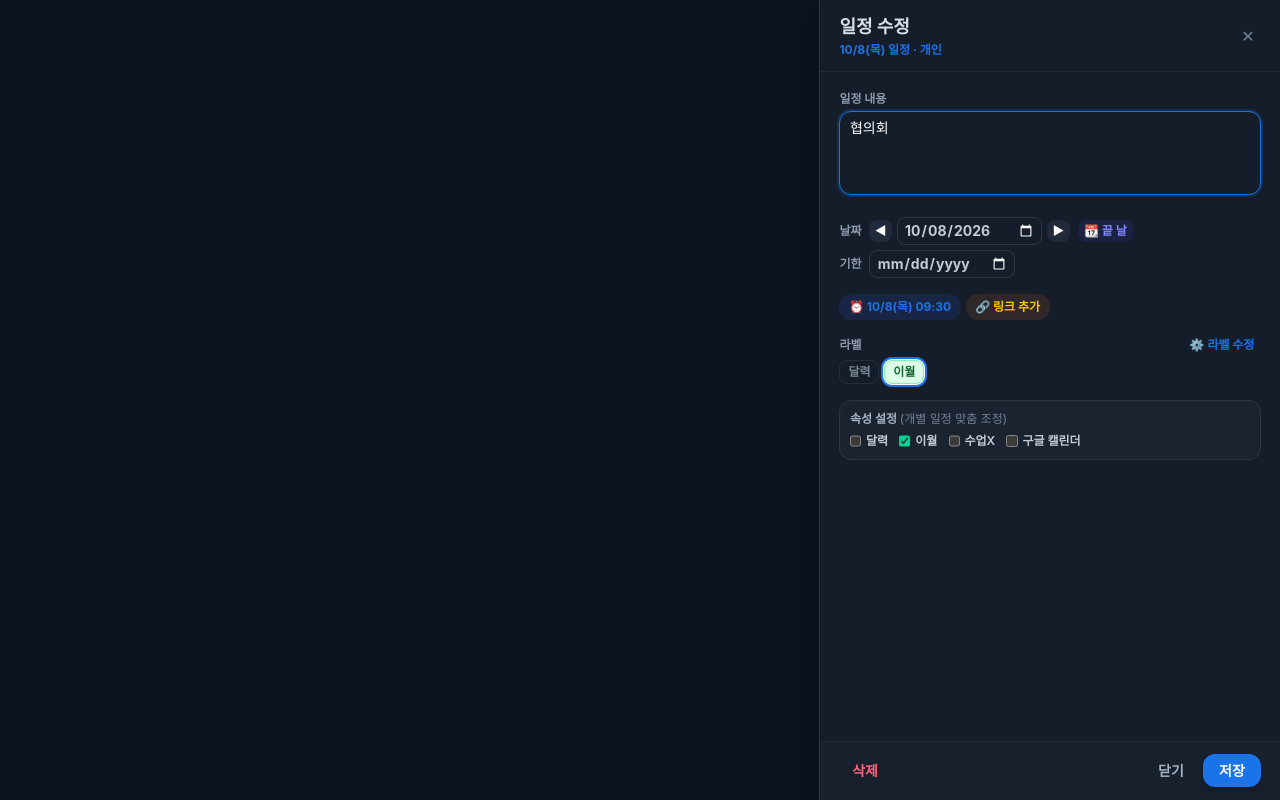
Scenario: 고치기 › 날짜를 바꾸면 안내 줄 → 옮기고 저장 = date만, 되돌리기는 날짜만
In the date field named "일정 날짜": point(970, 231) [897,217,1042,245], type "2026-10-12"
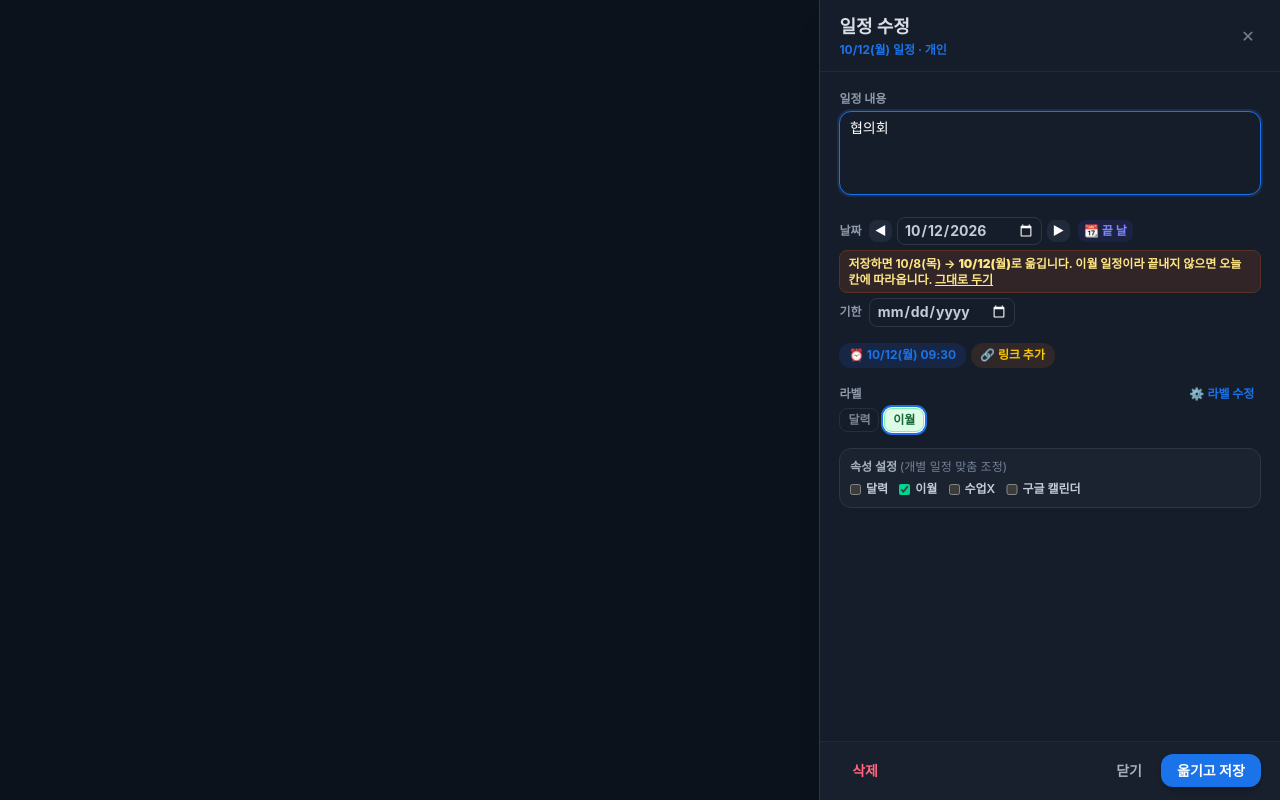
expect the element that starts with "저장하면" is shown: met, box [839,250,1261,293]
expect the button "옮기고 저장" is shown: met, box [1161,754,1261,787]
Replace the text in the text box with "협의회 (미룸)": point(1050, 153) [839,111,1261,195]
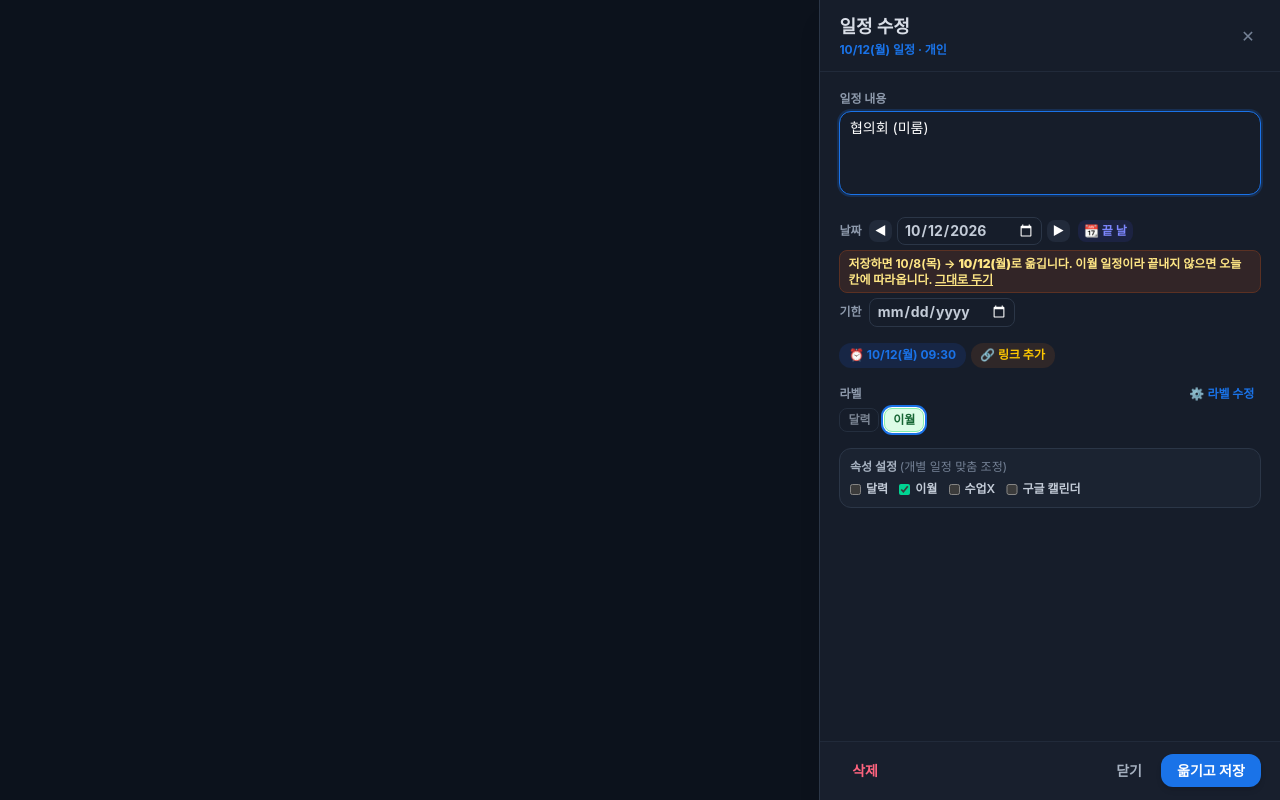
Click the button "옮기고 저장": point(1211, 771) [1161,754,1261,787]
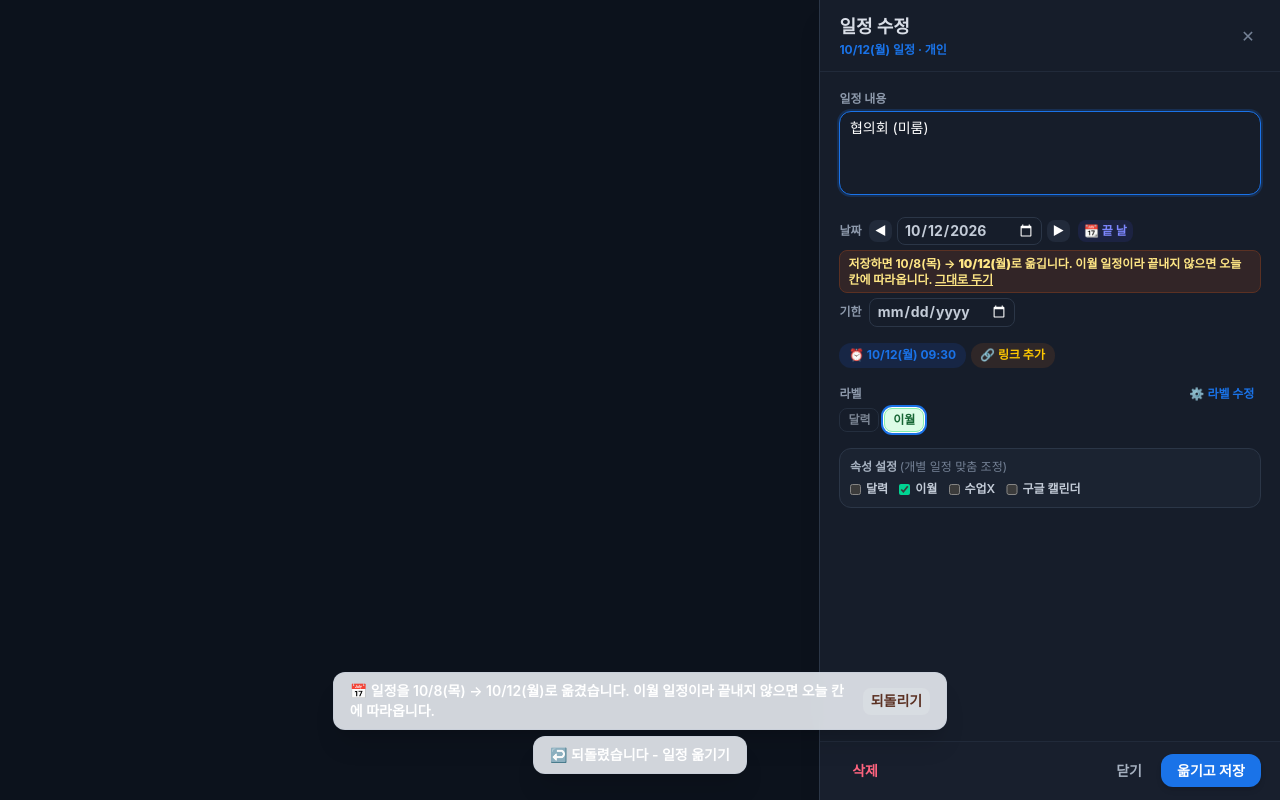
expect the message "📅 일정을 10/8(목) → 10/12(월)로 옮겼습니다. 이월 일정이라 끝내지 않으면 오늘 칸에 따라옵니다. 되돌리기" is shown: met, box [333,672,947,730]
